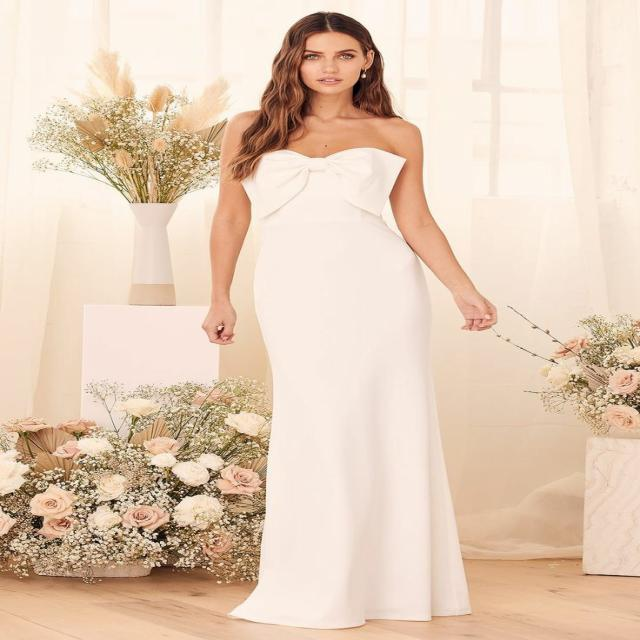female-dress: (213, 147, 478, 628)
